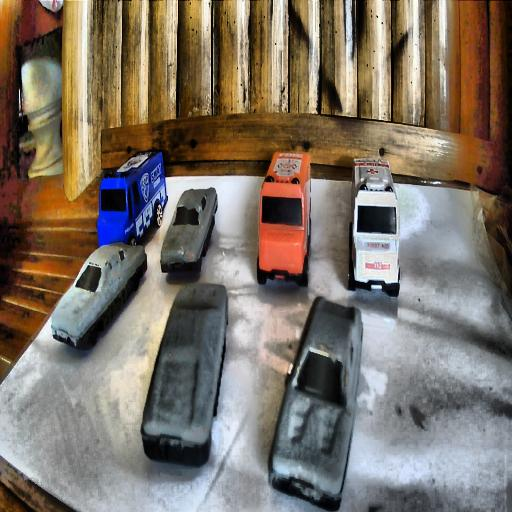ambulance: (348, 157, 401, 295)
fire_truck: (257, 152, 312, 287)
normal_car: (268, 297, 362, 508), (141, 283, 228, 466), (52, 240, 150, 354), (159, 186, 219, 276)
police car: (98, 150, 168, 249)
